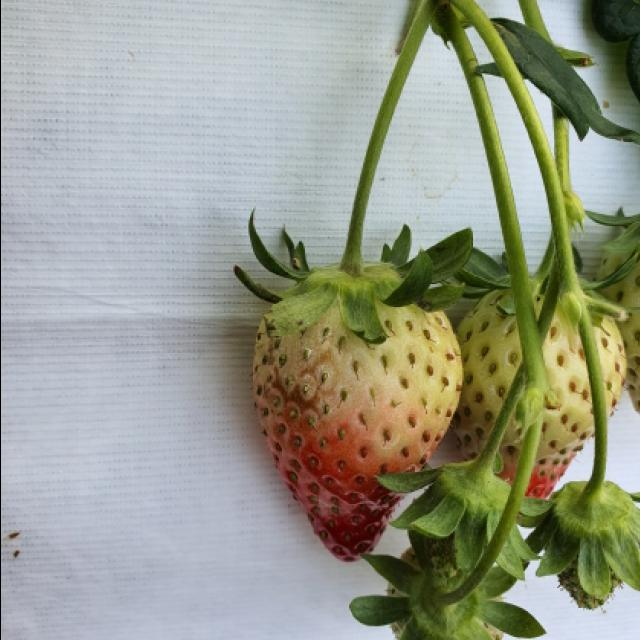Powdery Mildew Fruit: (252, 288, 462, 564)
